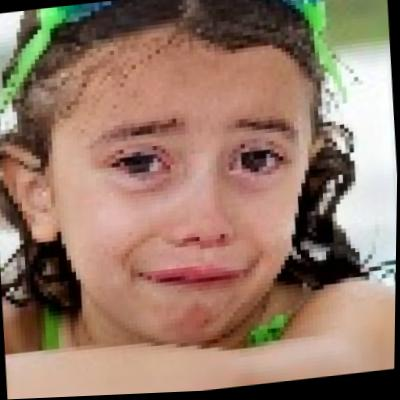sad: (53, 25, 315, 341)
